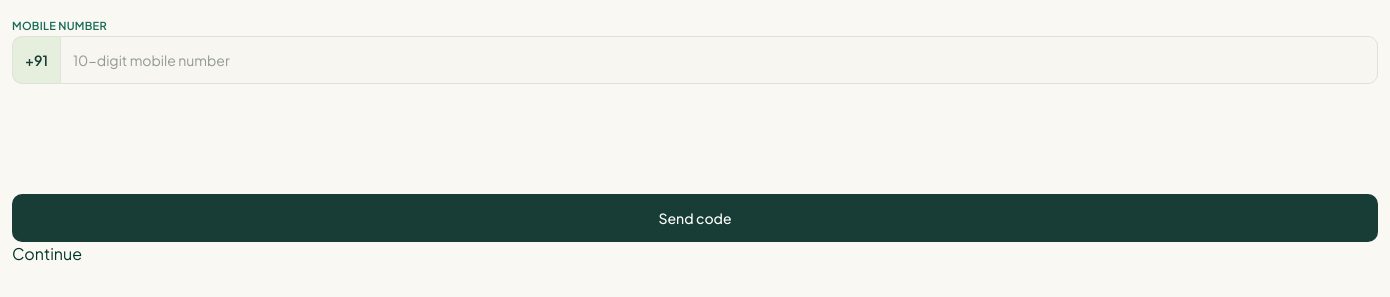
MobileOtpForm › inside another form (onboarding) › never renders a form of its own, so forms are not nested
The width and height of the screenshot is (1390, 297).
Expected: the button "Send code" is enabled, [12,194,1378,242]
Type "9876543210" into the field labelled "Mobile number".
click(719, 60); type("9876543210")  # box [60,36,1378,84]
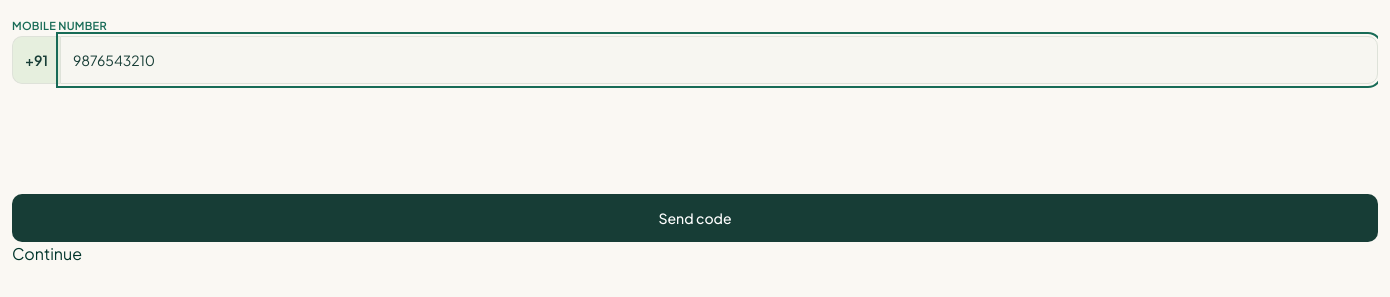
Click the button "Send code".
click(695, 218)  # box [12,194,1378,242]
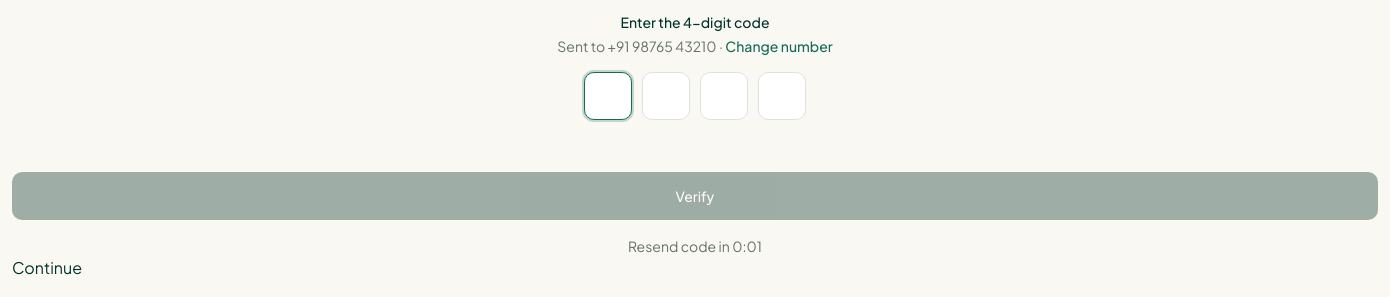
Now the text "Enter the 4-digit code" is shown, box [620,13,770,31]
